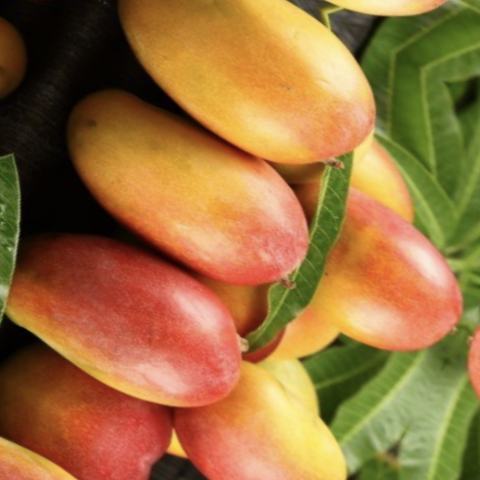mango: (0, 172, 301, 466), (23, 57, 335, 326), (81, 0, 430, 220), (238, 153, 480, 400)
